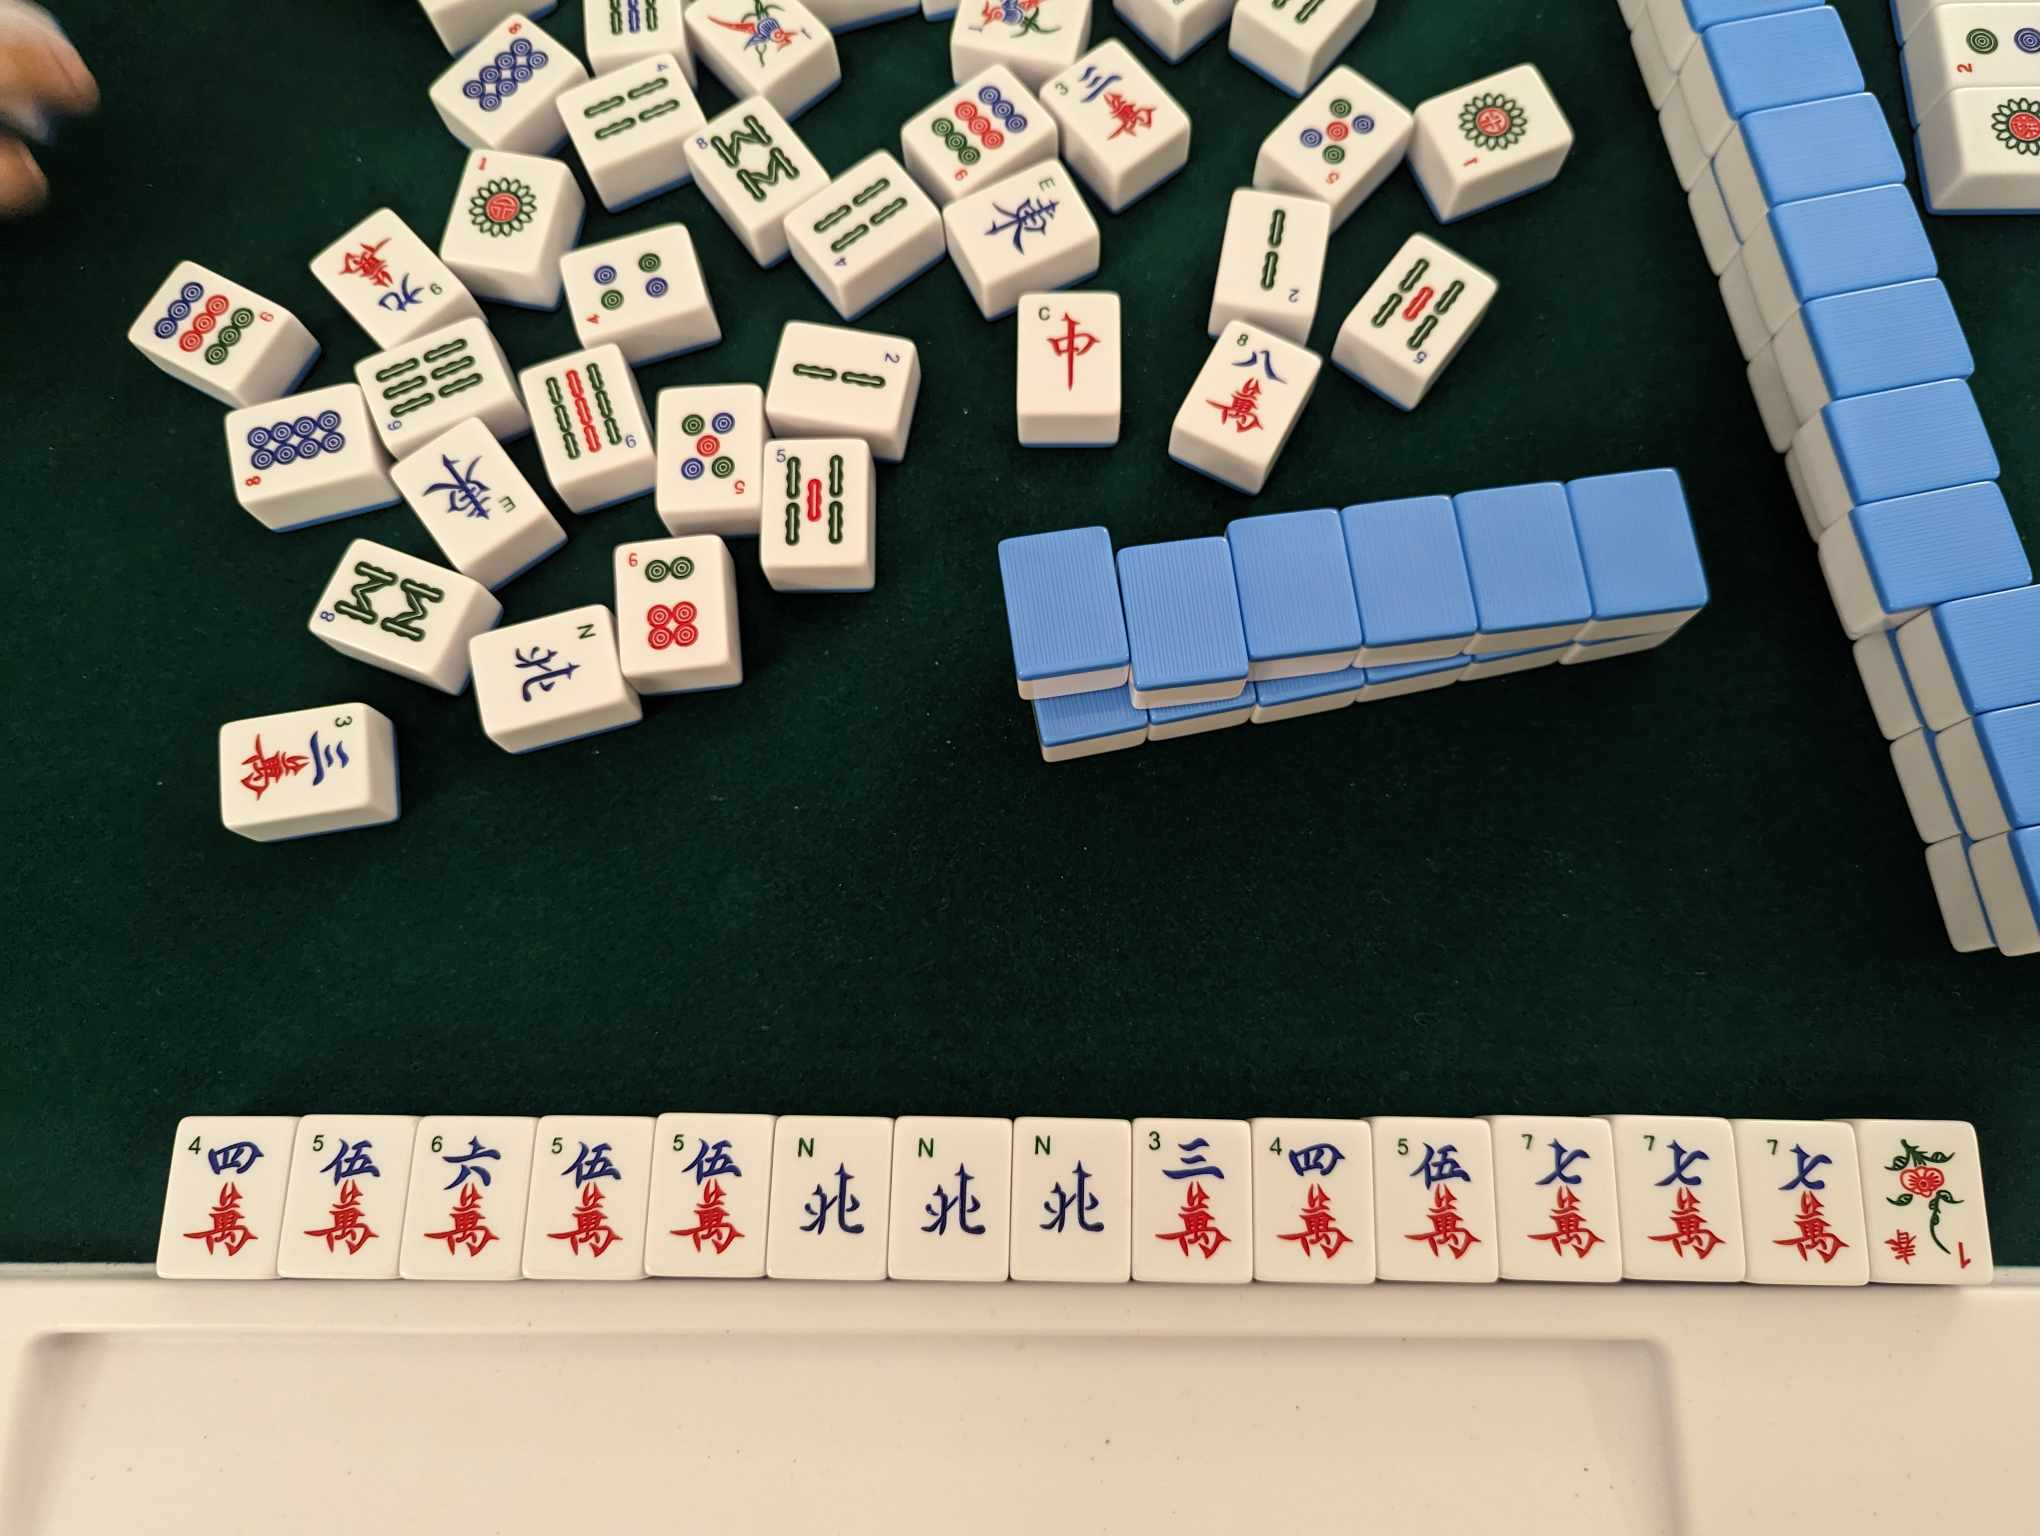character-five: (1385, 1125, 1487, 1279), (661, 1121, 761, 1267), (539, 1125, 634, 1273), (298, 1126, 393, 1273)
character-four: (1256, 1123, 1366, 1279), (181, 1125, 269, 1270)
character-seven: (1629, 1123, 1737, 1279), (1745, 1128, 1856, 1279), (1506, 1121, 1611, 1276)
character-six: (419, 1126, 511, 1271)
character-three: (1139, 1126, 1243, 1278)
flower-red_one: (1867, 1129, 1975, 1283)
honor-north_wind: (1022, 1123, 1127, 1275), (777, 1121, 876, 1273), (901, 1126, 1001, 1275)
